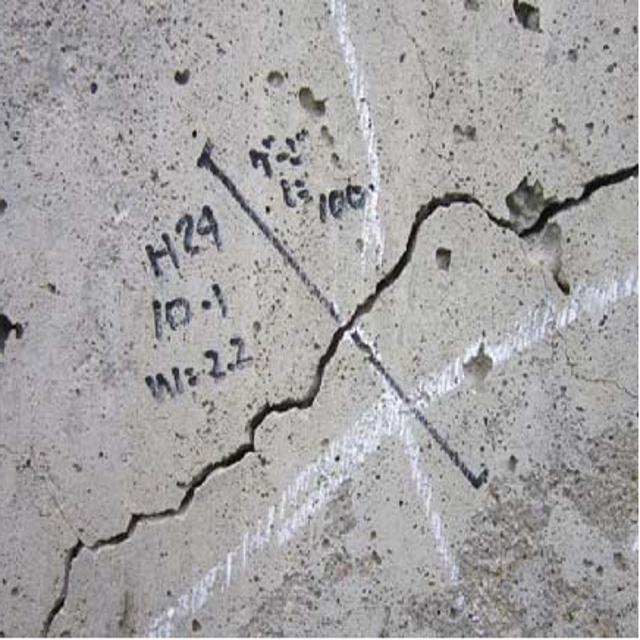crack: (25, 160, 634, 640)
